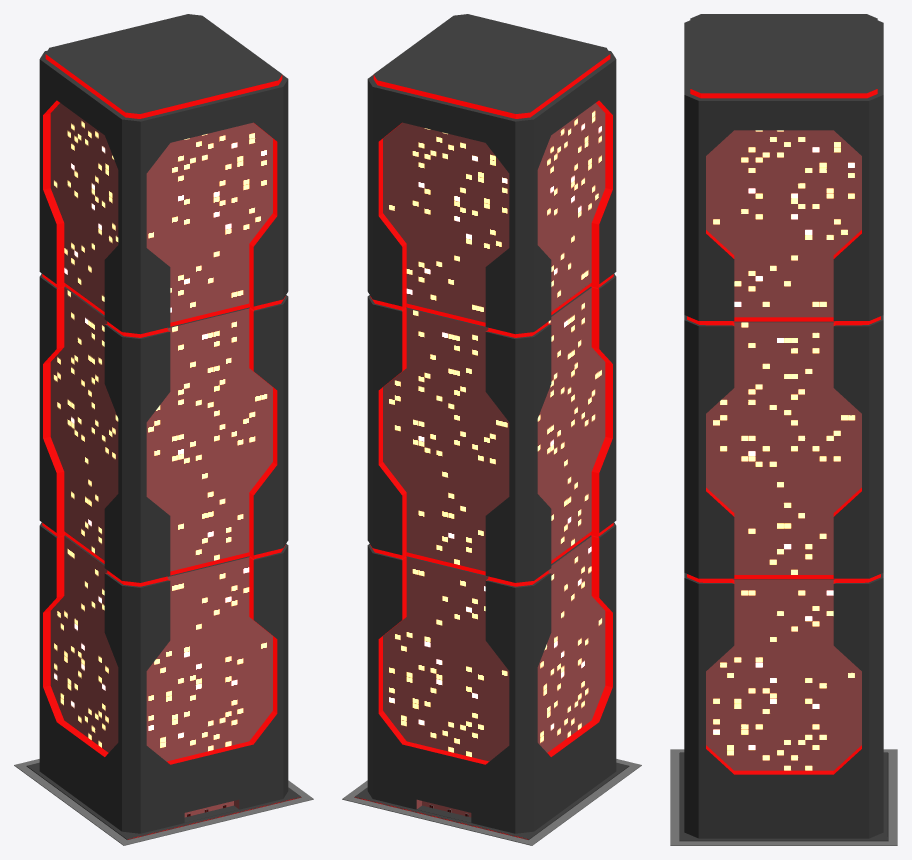
Rendered from Bina 10.fbx.
3 views of the same model, side by side, from view 1: azimuth 30°, elevation 25°; view 2: azimuth 150°, elevation 25°; view 3: azimuth 270°, elevation 25° (orthographic). The views are drawn at different scales.
Parts seen in each view (by area): view 1: Octagon, OctagonStand; view 2: Octagon, OctagonStand; view 3: Octagon, OctagonStand.
Part boxes in pixels (box(x1,y1,x2,y2)): Octagon: box(39, 14, 288, 833); OctagonStand: box(14, 759, 313, 845); Octagon: box(367, 14, 616, 833); OctagonStand: box(342, 759, 641, 845); Octagon: box(684, 14, 883, 838); OctagonStand: box(670, 749, 897, 845).
Size of the model in its own units: 51.39 by 186 by 51.39.
3 materials, 3 textured.
